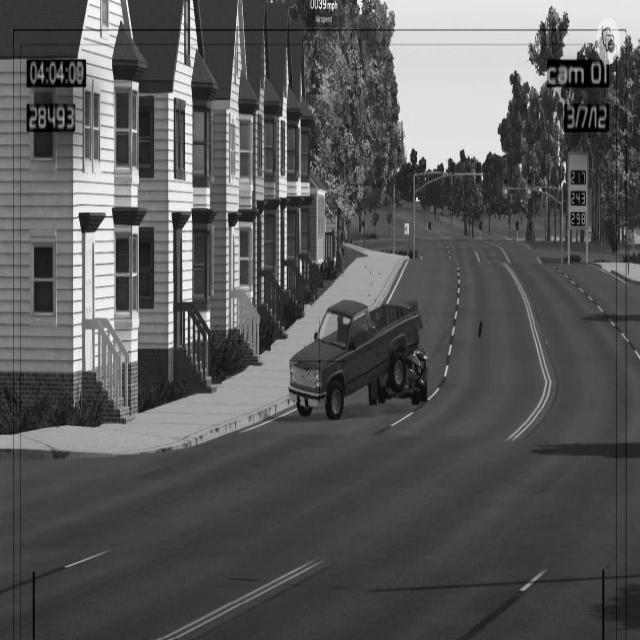accident: (287, 299, 433, 427)
